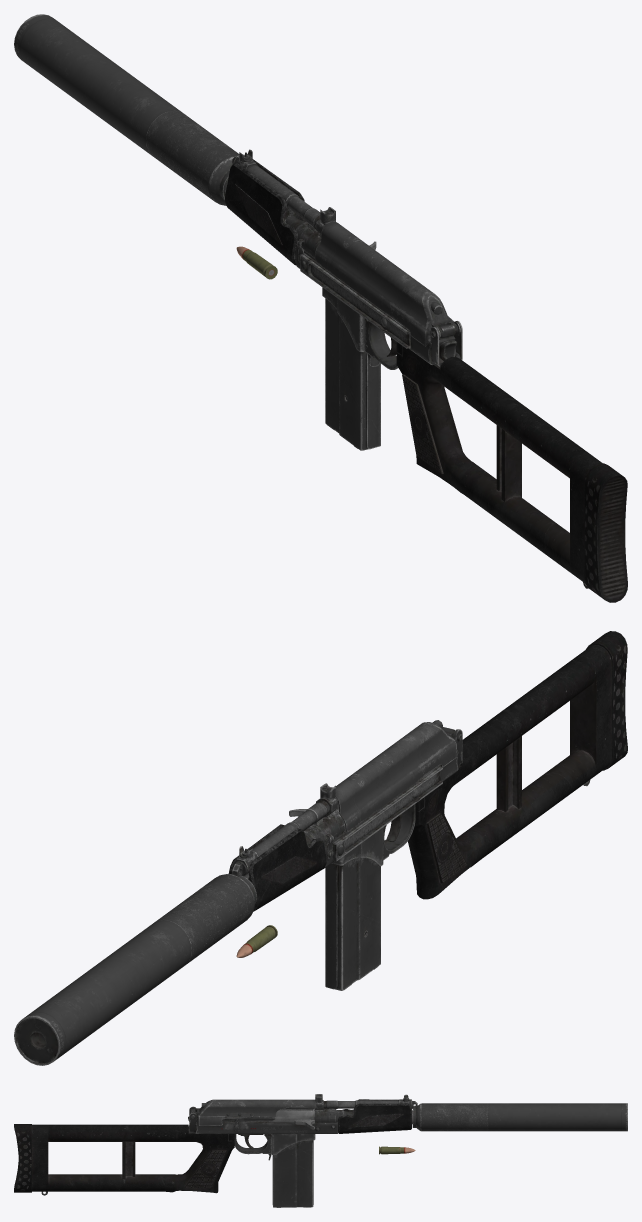
3 renders of one model, top to bottom at view 1: azimuth 30°, elevation 25°; view 2: azimuth 150°, elevation 25°; view 3: azimuth 270°, elevation 25°, orthographic. The views are drawn at different scales.
Visible parts, largest first — view 1: wTube.085, wTube.059, Cylinder.006, Cube.020, wTube.084, wRing.008, Cube.027, wPlane.016, wBox.040, wTube.066, Cube.021, Cube.022; view 2: wTube.085, wTube.059, Cube.020, Cylinder.006, wRing.008, wTube.084, Cube.027, wBox.040, wPlane.016, wTube.066, Cube.021, wTube.062 (+3 smaller); view 3: wTube.085, wTube.059, Cube.020, Cylinder.006, wRing.008, wBox.041, wTube.084, wPlane.016, Cube.021, wBox.040, wTube.066, wTube.069 (+4 smaller).
Part boxes in pixels (x1=…): wTube.085: x1=396, y1=342, x2=602, y2=582; wTube.059: x1=14, y1=14, x2=239, y2=205; Cylinder.006: x1=314, y1=221, x2=458, y2=346; Cube.020: x1=325, y1=298, x2=380, y2=450; wTube.084: x1=584, y1=463, x2=627, y2=602; wRing.008: x1=225, y1=159, x2=305, y2=265; Cube.027: x1=300, y1=253, x2=410, y2=348; wPlane.016: x1=402, y1=374, x2=462, y2=473; wBox.040: x1=496, y1=425, x2=521, y2=501; wTube.066: x1=246, y1=165, x2=320, y2=231; Cube.021: x1=322, y1=287, x2=364, y2=351; Cube.022: x1=364, y1=318, x2=398, y2=369; wTube.085: x1=407, y1=645, x2=611, y2=899; wTube.059: x1=14, y1=873, x2=256, y2=1065; Cube.020: x1=325, y1=858, x2=380, y2=990; Cylinder.006: x1=336, y1=720, x2=456, y2=831; wRing.008: x1=228, y1=824, x2=326, y2=911; wTube.084: x1=586, y1=631, x2=627, y2=770; Cube.027: x1=332, y1=765, x2=442, y2=861; wBox.040: x1=496, y1=736, x2=521, y2=811; wPlane.016: x1=409, y1=813, x2=467, y2=883; wTube.066: x1=233, y1=800, x2=329, y2=875; Cube.021: x1=331, y1=827, x2=383, y2=866; wTube.062: x1=304, y1=811, x2=345, y2=845; wTube.085: x1=32, y1=1124, x2=234, y2=1193; wTube.059: x1=412, y1=1103, x2=627, y2=1131; Cube.020: x1=272, y1=1140, x2=313, y2=1207; Cylinder.006: x1=192, y1=1099, x2=316, y2=1125; wRing.008: x1=338, y1=1099, x2=412, y2=1133; wBox.041: x1=195, y1=1121, x2=337, y2=1133; wTube.084: x1=14, y1=1124, x2=31, y2=1192; wPlane.016: x1=184, y1=1150, x2=226, y2=1187; Cube.021: x1=272, y1=1134, x2=315, y2=1155; wBox.040: x1=122, y1=1141, x2=135, y2=1179; wTube.066: x1=323, y1=1100, x2=412, y2=1110; wTube.069: x1=268, y1=1109, x2=314, y2=1122.
Bounding box in the file's own units: 0.0797 × 0.2366 × 1.2.
4 materials, 4 textured.
